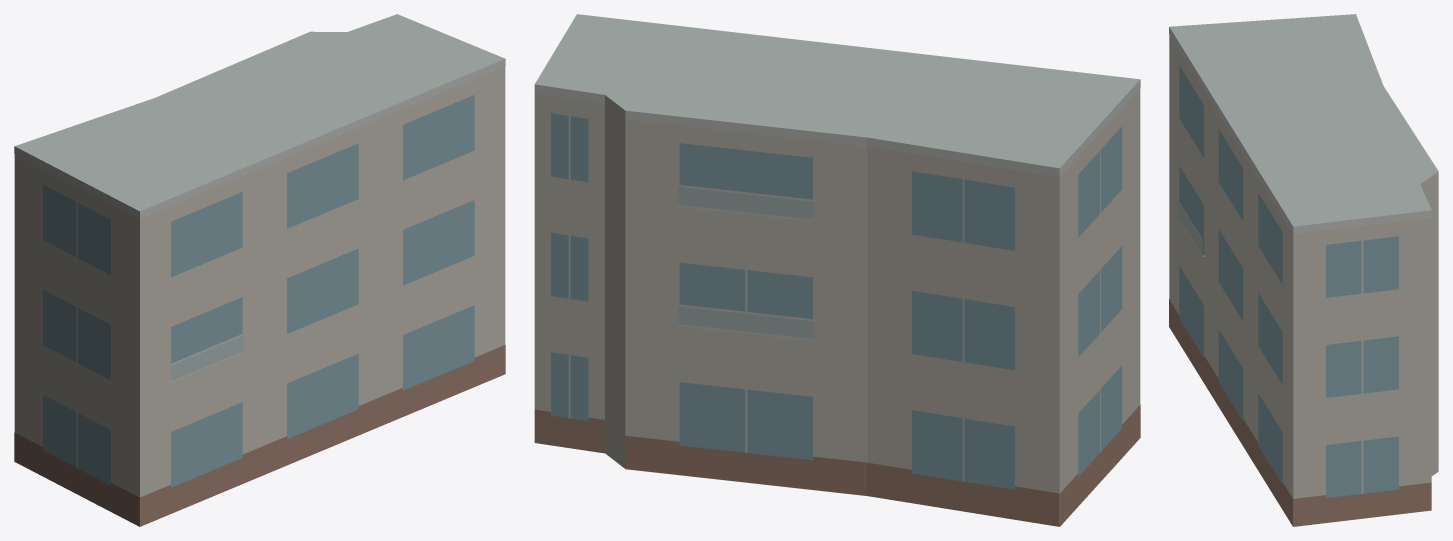
Rendered from survey-upis-32530076.glb.
The picture shows the model from 3 angles, left to right: view 1: azimuth 30°, elevation 25°; view 2: azimuth 150°, elevation 25°; view 3: azimuth 270°, elevation 25°; orthographic projection. The views are drawn at different scales.
Visible parts, largest first — view 1: survey-upis-32530076.tmp; view 2: survey-upis-32530076.tmp; view 3: survey-upis-32530076.tmp.
Boxes of the visible parts, x1,y1,x2,y2 form: survey-upis-32530076.tmp: [14, 14, 505, 526]; survey-upis-32530076.tmp: [534, 14, 1140, 526]; survey-upis-32530076.tmp: [1169, 14, 1438, 526].
Bounding box in the file's own units: 15.05 × 9.9 × 8.07.
